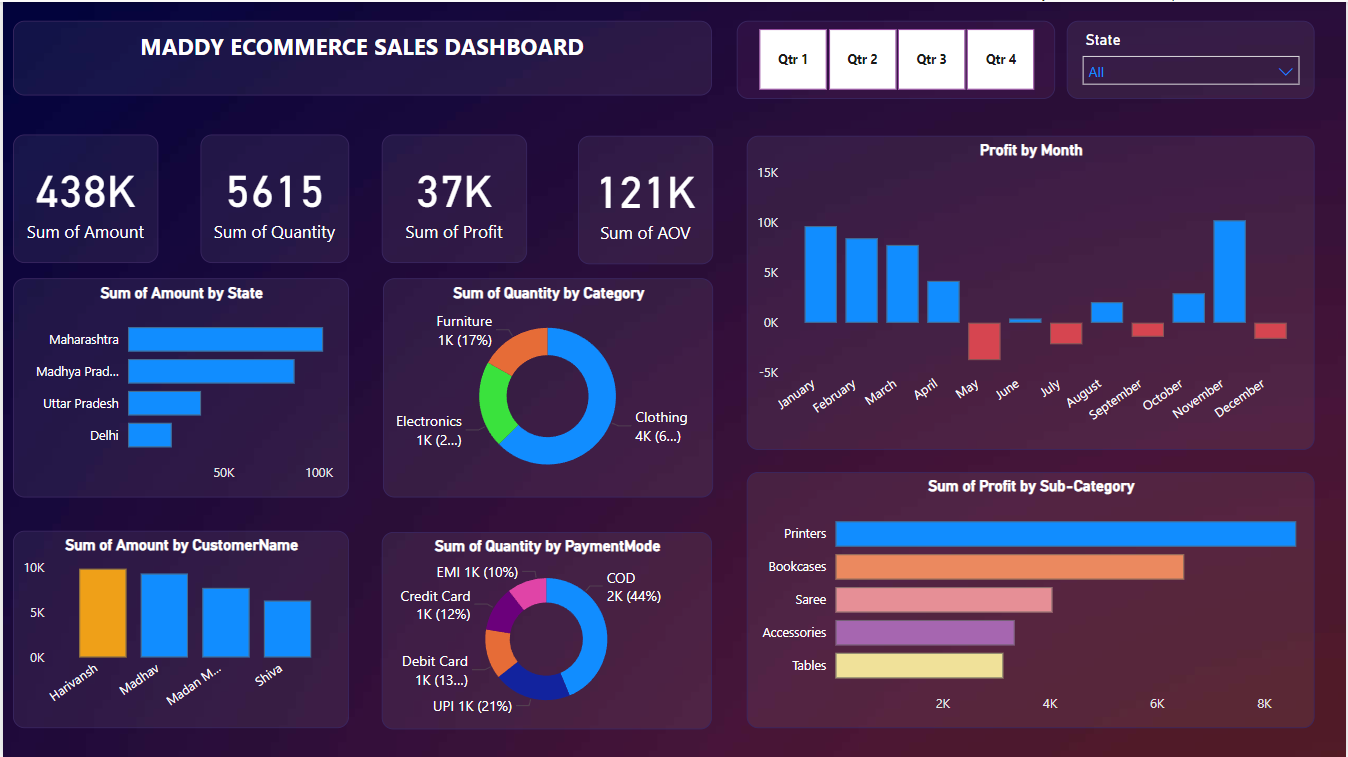

This screenshot's page, from the dashboard's own definition file:
{"tool":"powerbi","page":{"name":"Page 1","canvas":[1280,720],"ordinal":0},"visuals":[{"type":"textbox","box":[9.6,17.8,665.5,71.4],"z":0},{"type":"columnChart","title":"Profit by Month","fields":{"Y":["Details (1).Profit"],"Category":["Orders (1).Order Date.Variation.Date Hierarchy.Month"]},"box":[708.1,127.6,540.7,299.1],"z":1000},{"type":"barChart","fields":{"Category":["Details (1).Sub-Category"],"Y":["Details (1).Profit"]},"box":[708.1,447.3,540.7,244.3],"z":2000},{"type":"donutChart","fields":{"Category":["Details (1).Category"],"Y":["Details (1).Quantity"]},"box":[362.3,263.5,314.2,208.6],"z":3000},{"type":"donutChart","fields":{"Y":["Details (1).Quantity"],"Category":["Details (1).PaymentMode"]},"box":[360.9,505,314.2,188],"z":4000},{"type":"card","fields":{"Values":["Details (1).Amount"]},"box":[9.6,126.2,138.6,122.1],"z":5000},{"type":"card","fields":{"Values":["Details (1).Quantity"]},"box":[188,126.2,141.3,122.1],"z":6000},{"type":"card","fields":{"Values":["Details (1).Profit"]},"box":[360.9,126.2,138.6,122.1],"z":7000},{"type":"card","fields":{"Values":["Details (1).AOV"]},"box":[547.5,127.6,129,122.1],"z":8000},{"type":"barChart","fields":{"Y":["Details (1).Amount"],"Category":["Orders (1).State"]},"box":[9.6,263.5,319.7,208.6],"z":9000},{"type":"columnChart","fields":{"Category":["Orders (1).CustomerName"],"Y":["Details (1).Amount"]},"box":[9.6,503.6,319.7,188],"z":10000},{"type":"slicer","fields":{"Values":["Orders (1).Order Date.Variation.Date Hierarchy.Quarter"]},"box":[698.5,17.8,303.3,74.1],"z":11000},{"type":"slicer","fields":{"Values":["Orders (1).State"]},"box":[1012.7,17.8,236,74.1],"z":12000}]}

Visuals, with their boxes in screenshot pixels (x1, y1, x2, y2), scaled from the page's 1280x720 canvas onto the 1348x757 screenshot:
textbox: bbox(10, 19, 711, 94)
"Profit by Month" columnChart: bbox(746, 134, 1315, 449)
barChart - Details (1).Sub-Category x Details (1).Profit: bbox(746, 470, 1315, 727)
donutChart - Details (1).Category x Details (1).Quantity: bbox(382, 277, 712, 496)
donutChart - Details (1).Quantity x Details (1).PaymentMode: bbox(380, 531, 711, 729)
card - Details (1).Amount: bbox(10, 133, 156, 261)
card - Details (1).Quantity: bbox(198, 133, 347, 261)
card - Details (1).Profit: bbox(380, 133, 526, 261)
card - Details (1).AOV: bbox(577, 134, 712, 263)
barChart - Details (1).Amount x Orders (1).State: bbox(10, 277, 347, 496)
columnChart - Orders (1).CustomerName x Details (1).Amount: bbox(10, 529, 347, 727)
slicer - Orders (1).Order Date.Variation.Date Hierarchy.Quarter: bbox(736, 19, 1055, 97)
slicer - Orders (1).State: bbox(1066, 19, 1315, 97)
